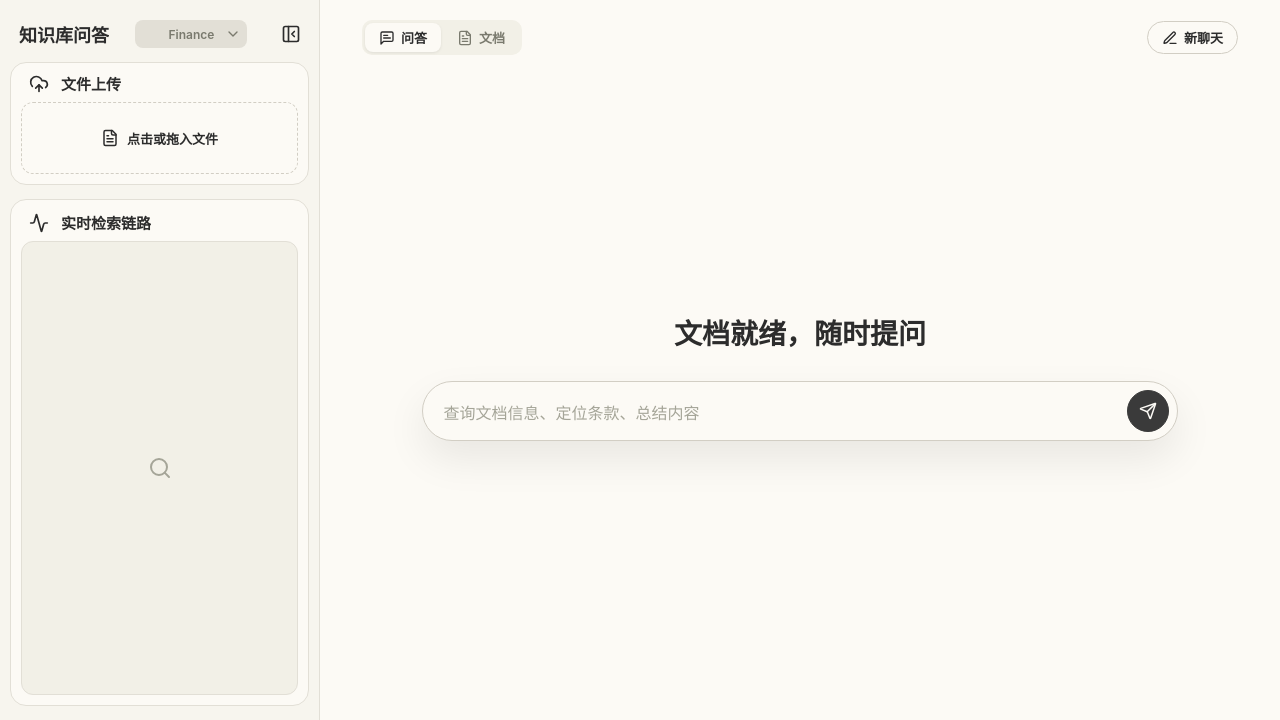
FinRAG chat interface › warms the selected knowledge base after initial load and switch
The width and height of the screenshot is (1280, 720).
Expected: the text "文档就绪，随时提问" is shown, 674,316 -> 926,353
Click the button with aria-label "切换知识库 finance".
click(191, 34)  # box 135,20 -> 247,48
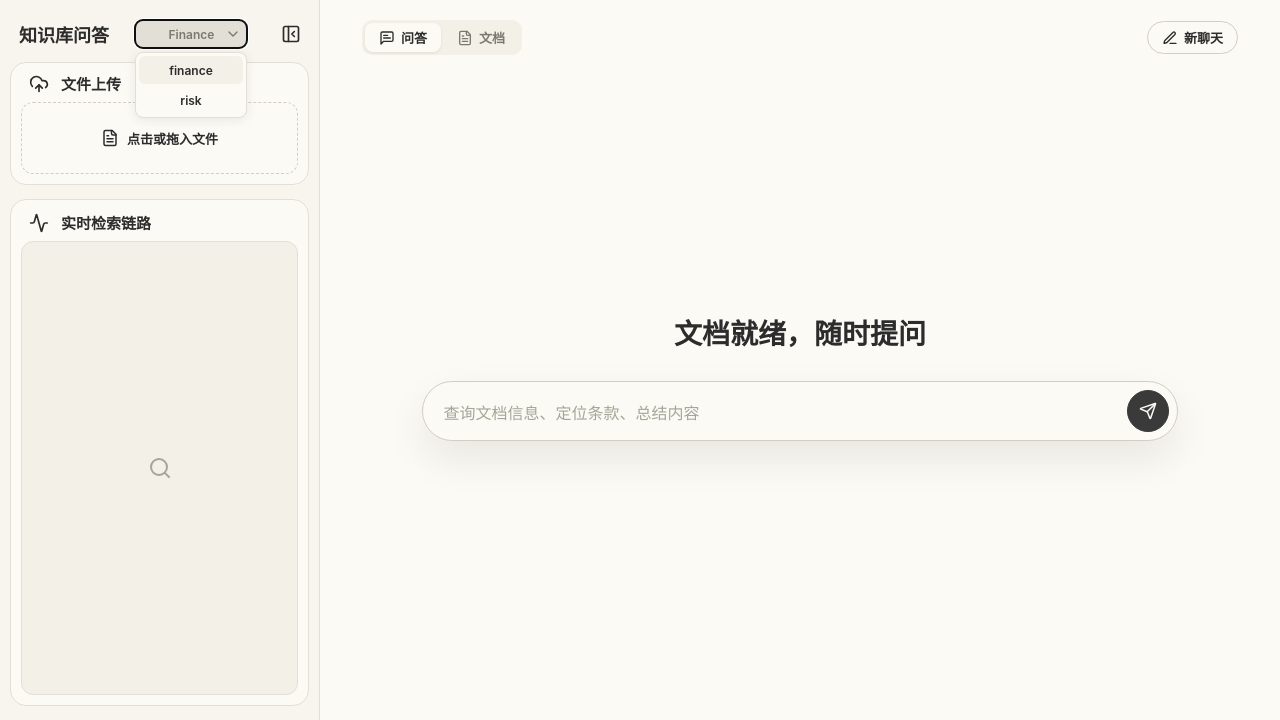
Click the option "risk".
click(191, 100)  # box 139,86 -> 243,114
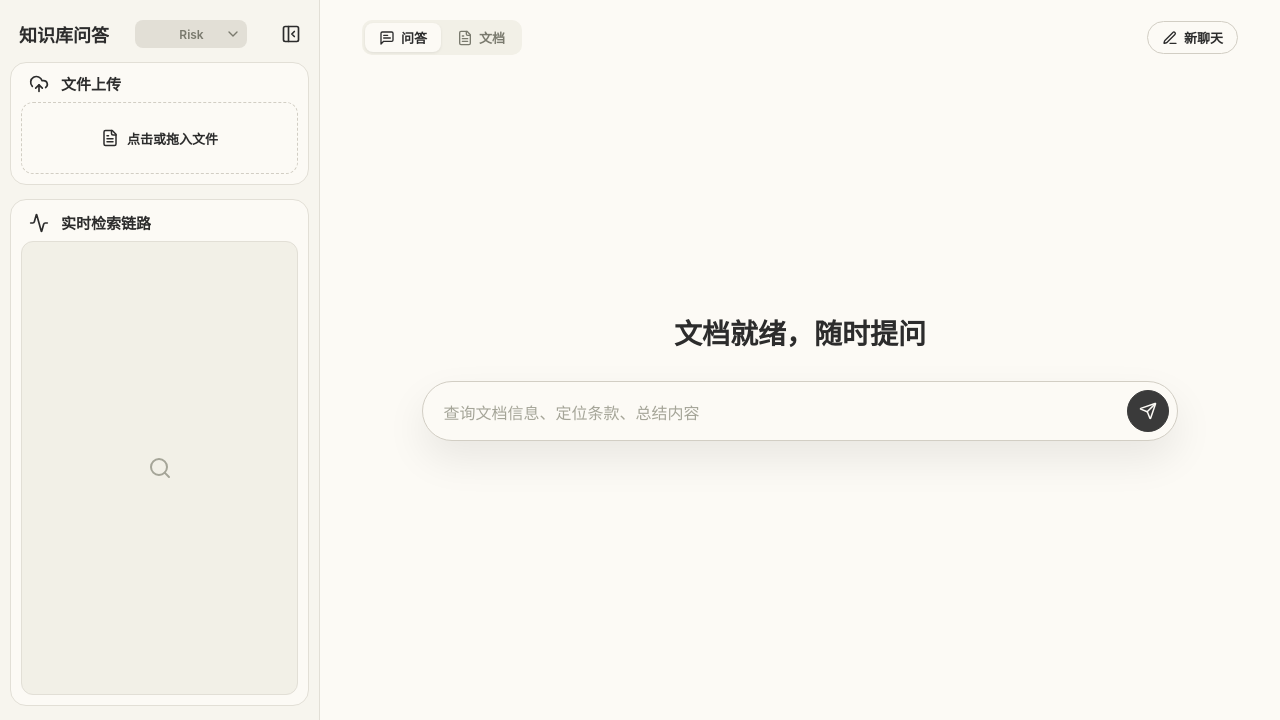
Click the button "文档".
click(481, 38)  # box 443,23 -> 519,52
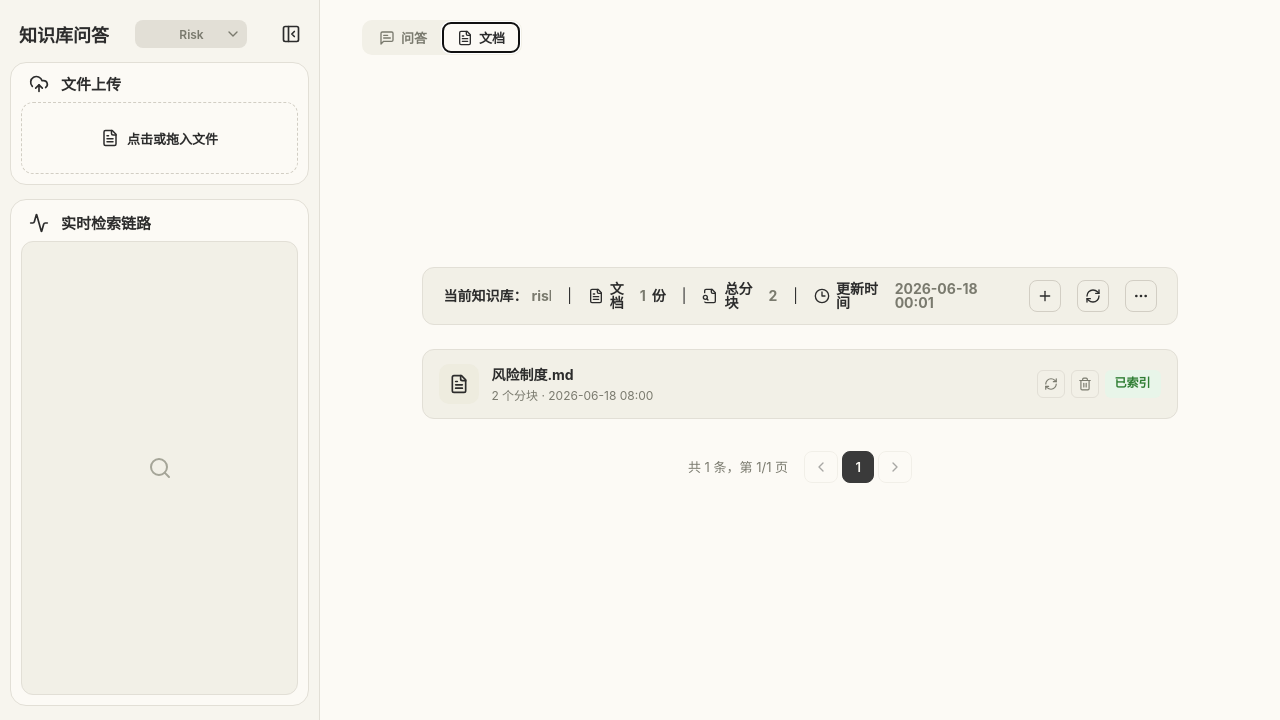
Expected: the text "风险制度.md" is shown, 491,366 -> 574,383
